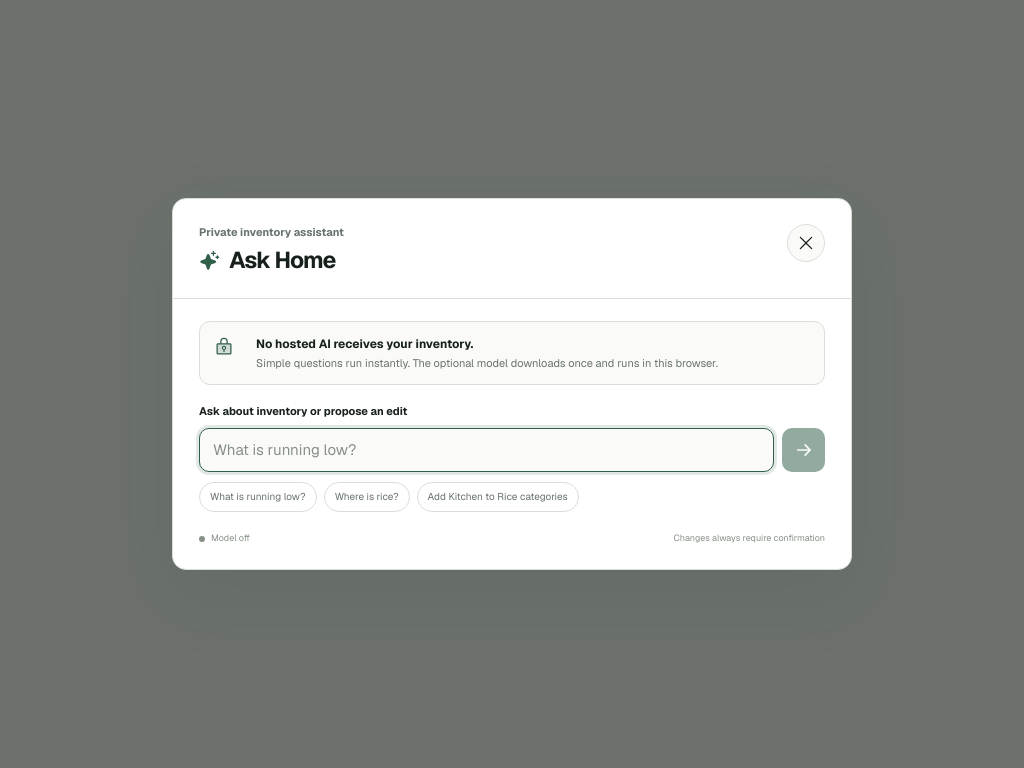
Scenario: InventoryAssistant › checks model storage after consent and blocks a known insufficient device
This screenshot has width=1024, height=768.
Type "Rename Dish soap" into the field labelled "Ask about inventory or propose an edit" at (486, 450), box [199, 428, 774, 472]
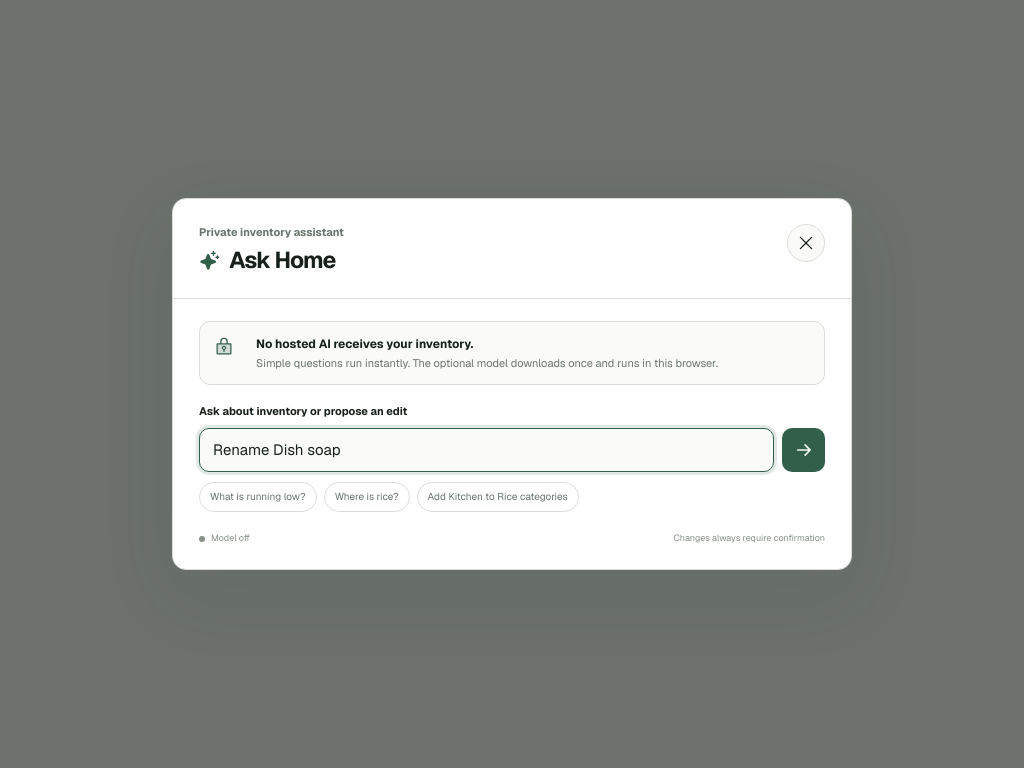
Click the button named "Ask Home" at (804, 450), box [782, 428, 825, 472]
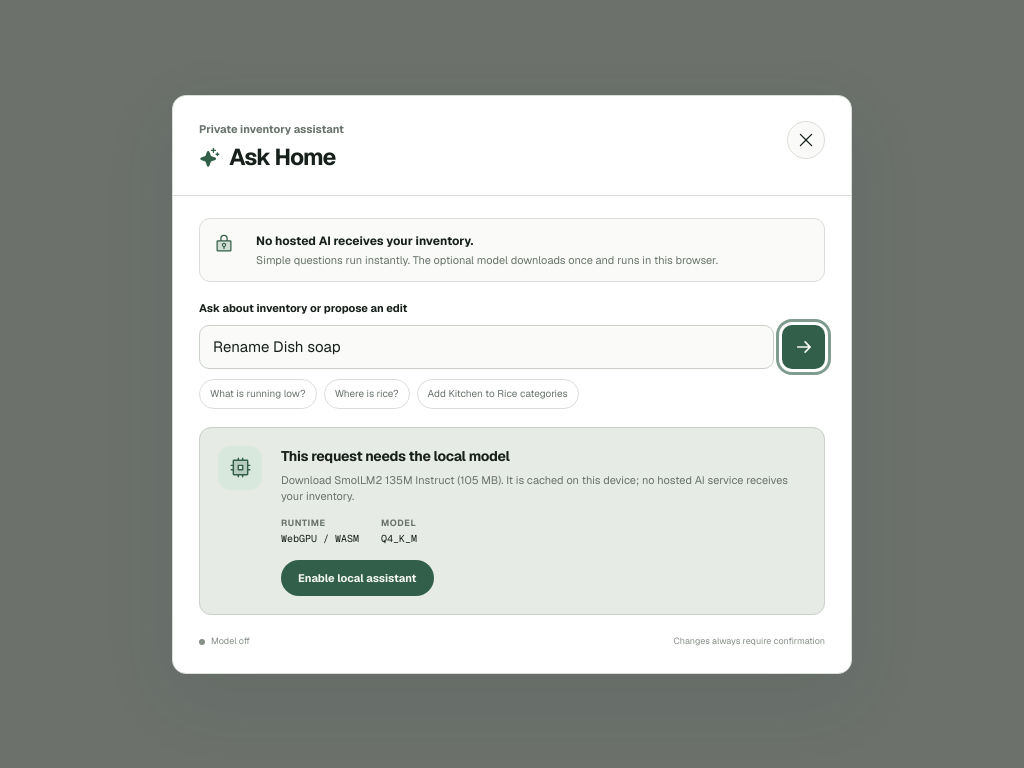
Click the button "Enable local assistant" at (357, 578), box [281, 560, 434, 596]
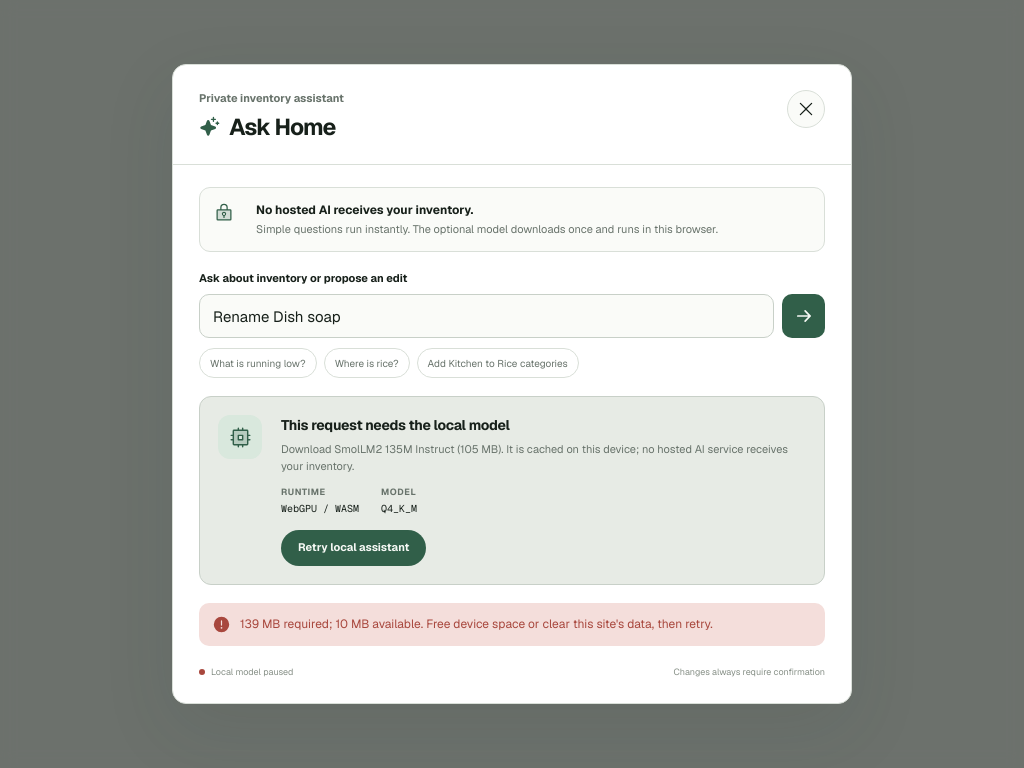
Expected: the message shows "139 MB required; 10 MB available", [240, 616, 713, 632]
